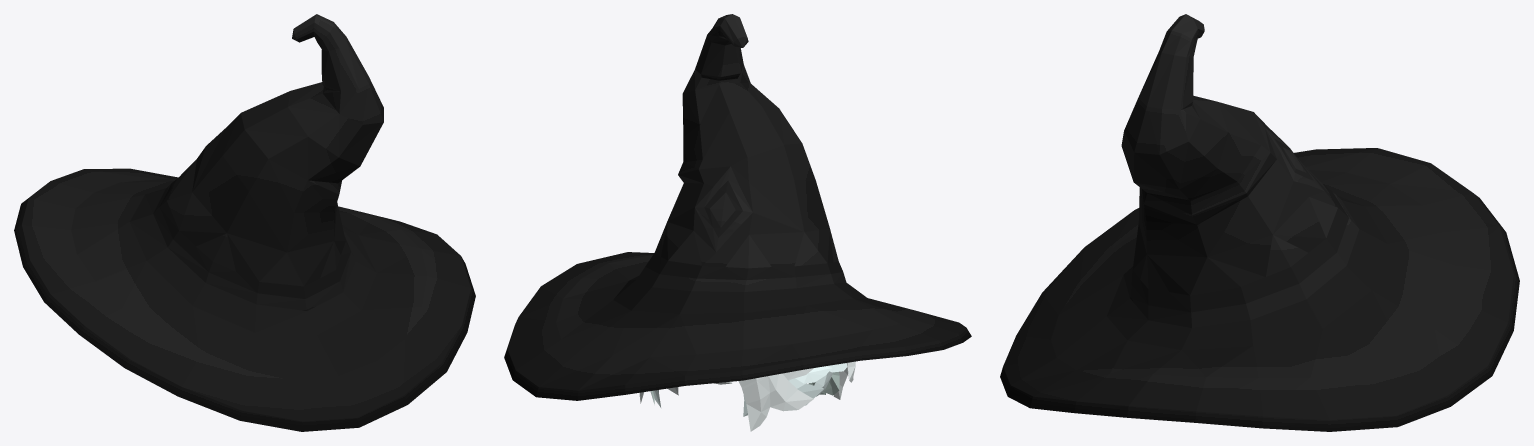
File: CharSkyKid_Hair_WitchHat_01.glb
The picture shows the model from 3 angles, left to right: view 1: azimuth 30°, elevation 25°; view 2: azimuth 150°, elevation 25°; view 3: azimuth 270°, elevation 25°; orthographic projection. The views are drawn at different scales.
Visible parts, largest first — view 1: CharSkyKid_Hair_WitchHat_01; view 2: CharSkyKid_Hair_WitchHat_01; view 3: CharSkyKid_Hair_WitchHat_01.
Part boxes in pixels (x1,y1,x2,y2): CharSkyKid_Hair_WitchHat_01: (14,14,475,431); CharSkyKid_Hair_WitchHat_01: (504,14,971,431); CharSkyKid_Hair_WitchHat_01: (1000,14,1519,431).
Bounding box in the file's own units: 6.33 × 5.38 × 6.35.
1 material, 1 textured.
